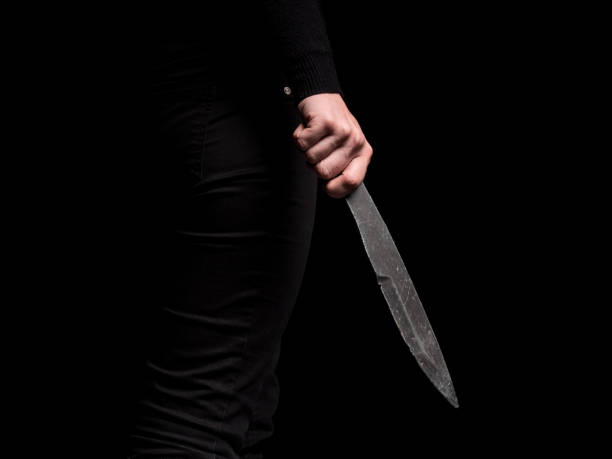knife: (346, 182, 461, 411)
